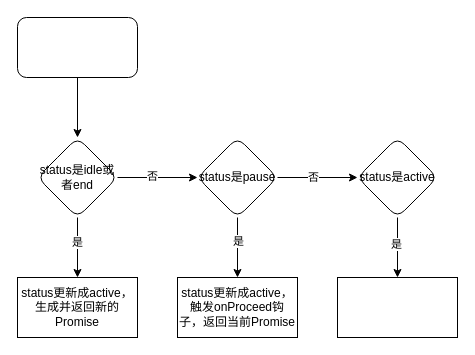
Image size: 475x355. Some labels were removed from this diagram. Each missing label, with the box of its shape:
start: (16, 16, 138, 78)
触发onExecute钩子，返回当前Promise: (336, 276, 458, 338)
